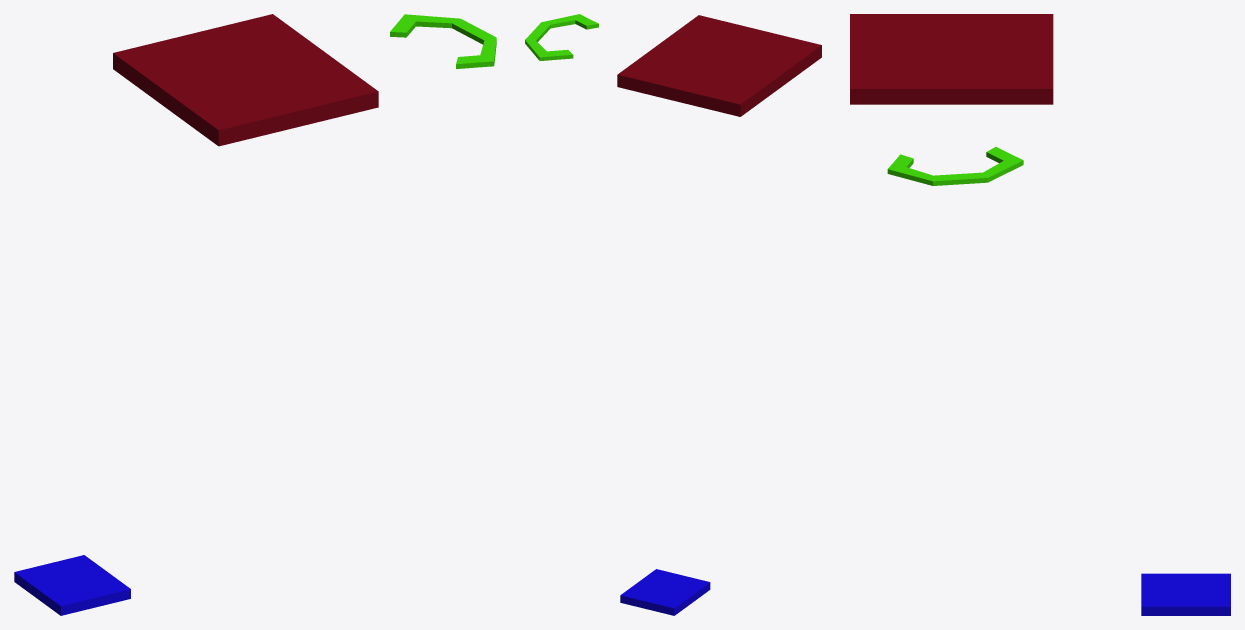
Rendered from platsVarias.fbx.
The picture shows the model from 3 angles, left to right: view 1: azimuth 30°, elevation 25°; view 2: azimuth 150°, elevation 25°; view 3: azimuth 270°, elevation 25°; orthographic projection. The views are drawn at different scales.
Visible parts, largest first — view 1: Cube.008; view 2: Cube.008; view 3: Cube.008.
Boxes of the visible parts, x1=… form: Cube.008: x1=14, y1=14, x2=496, y2=615; Cube.008: x1=525, y1=14, x2=821, y2=615; Cube.008: x1=850, y1=14, x2=1230, y2=615.
Size of the model in its own units: 973 by 1687 by 1018.
